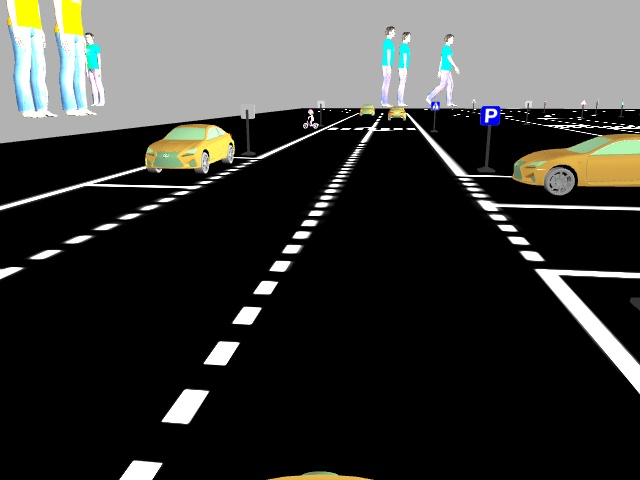Parking: (477, 103, 501, 126)
